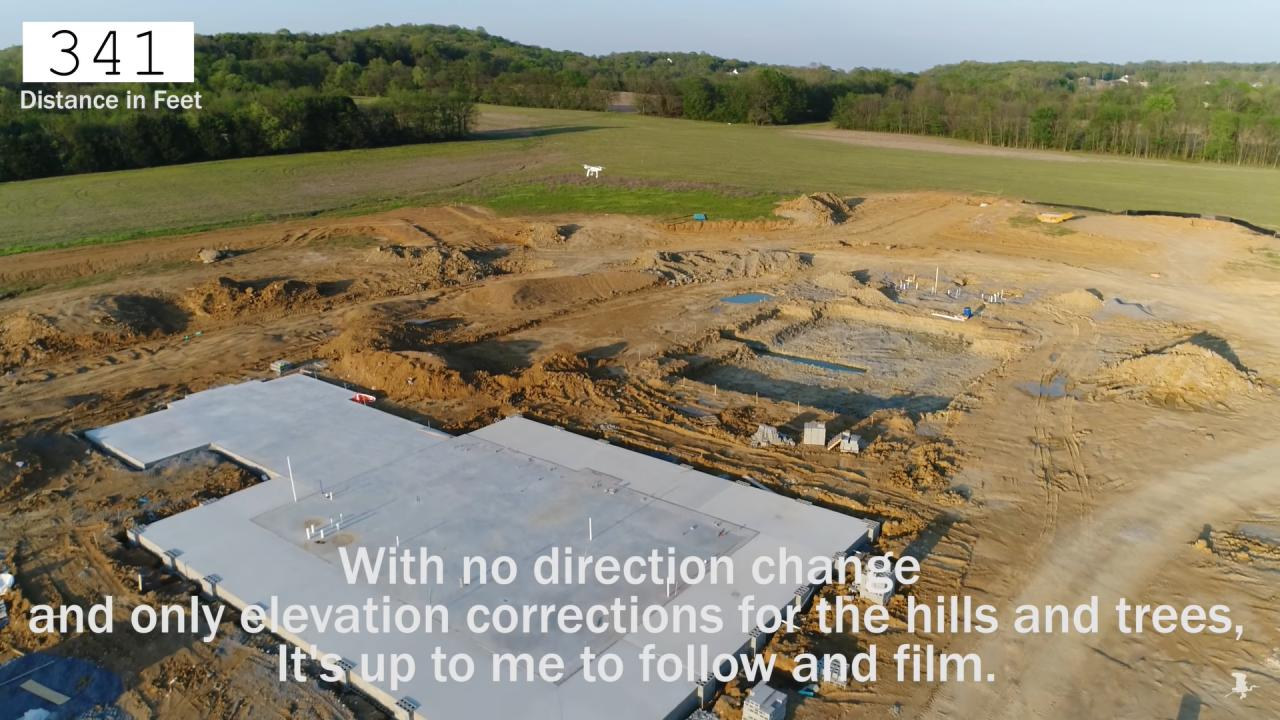Drone: (575, 155, 612, 188)
